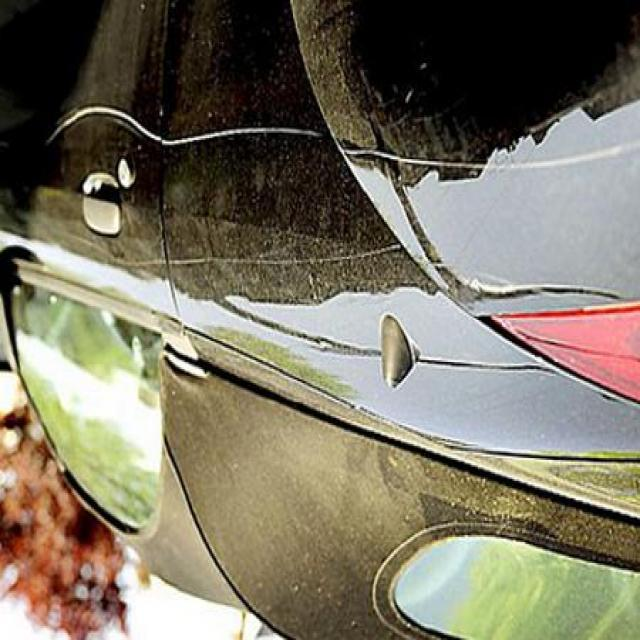scratch: (36, 95, 322, 153), (344, 138, 539, 178)
